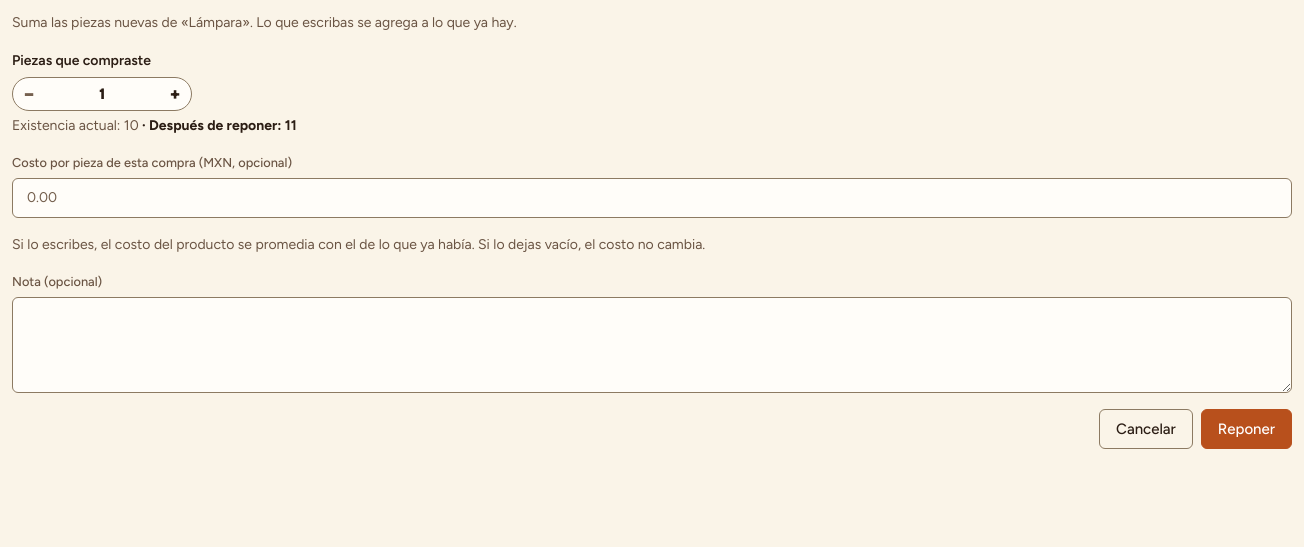
Scenario: ProductRestockForm › validación (no manda nada y marca el campo) › corregir y reenviar limpia los errores
Type "abc" into the field labelled "Costo por pieza de esta compra (MXN, opcional)". click: (652, 198)
box: [12, 178, 1292, 218]
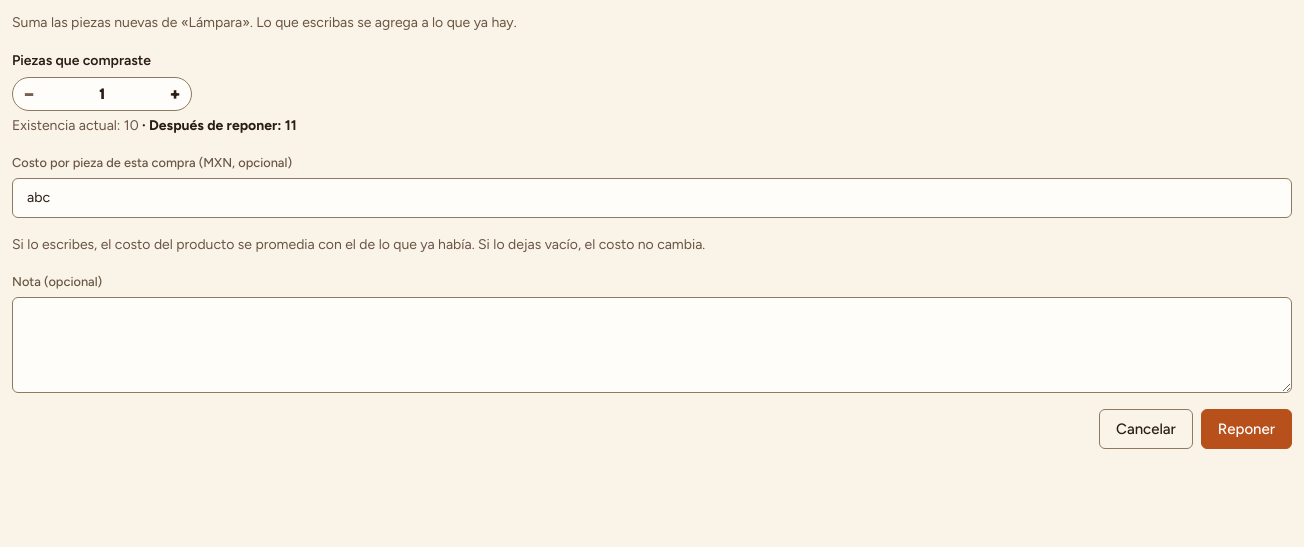
Submit the form
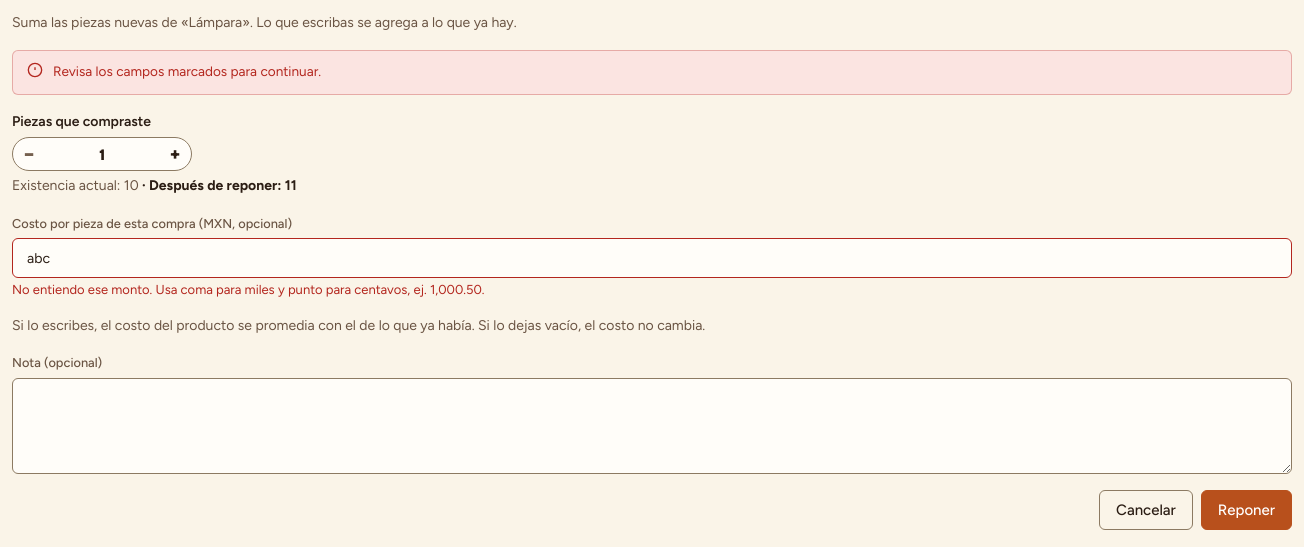
Expected: the text "No entiendo ese monto" is shown, [12, 282, 484, 297]
Replace the text in the field labelled "Costo por pieza de esta compra (MXN, opcional)" with "8". click: (652, 258)
box: [12, 238, 1292, 278]
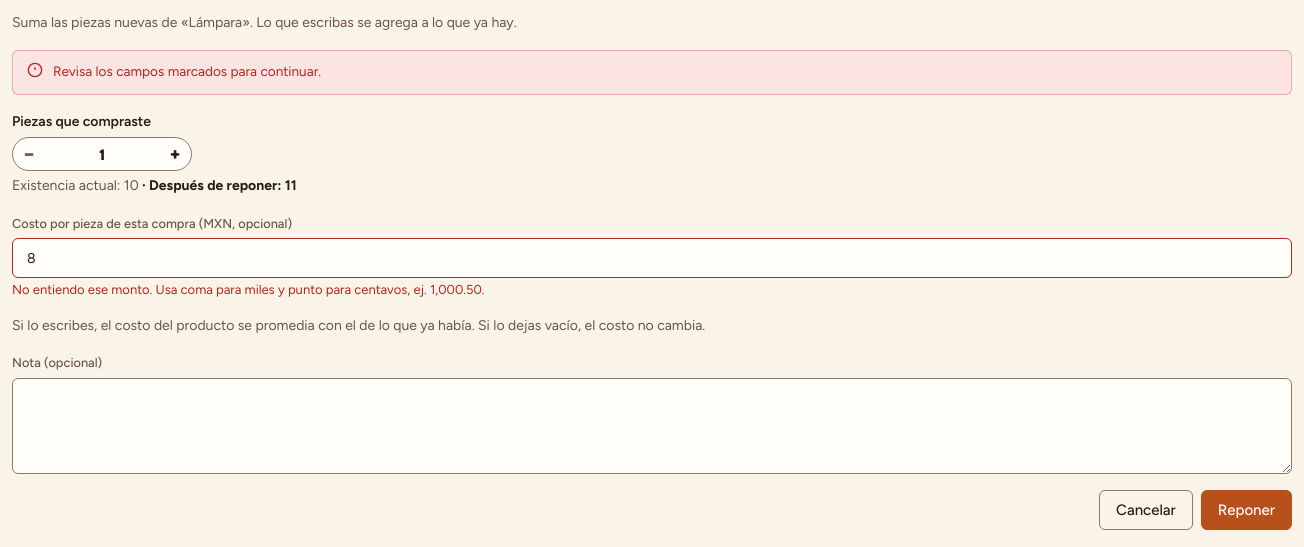
Submit the form
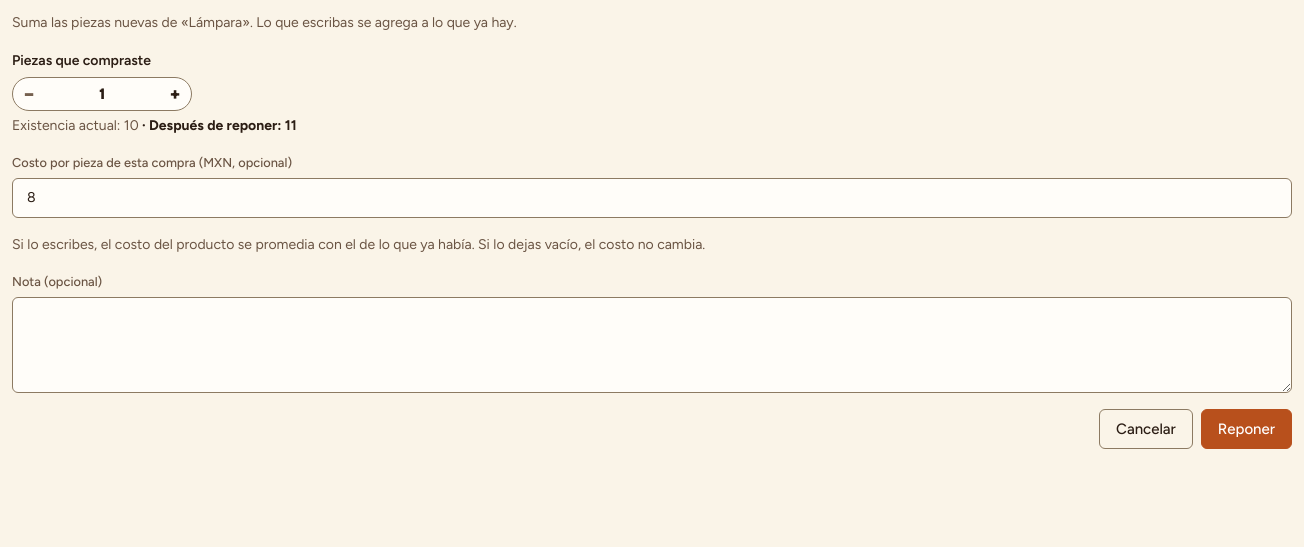
Expected: the text "No entiendo ese monto" is gone
